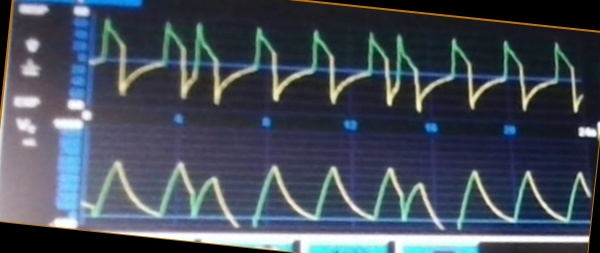Double_Triggering Flow: (96, 20, 582, 114)
Double_Triggering Volume: (83, 154, 587, 230)
